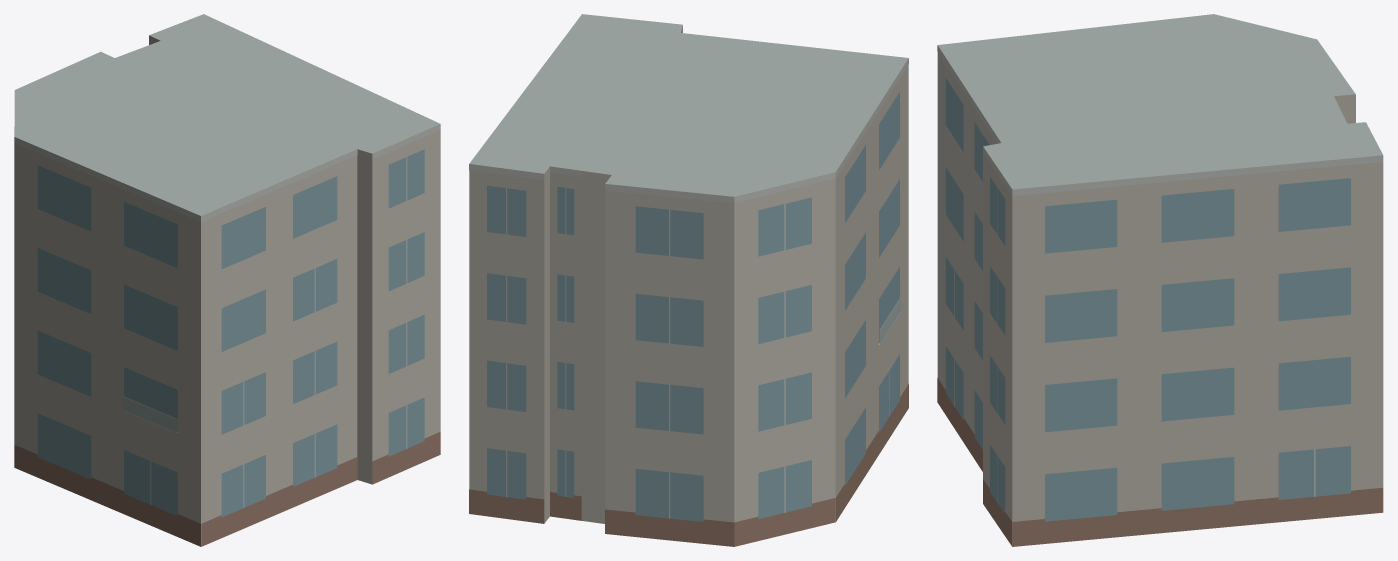
Rendered from survey-upis-33027584.glb.
3 views of the same model, side by side, from view 1: azimuth 30°, elevation 25°; view 2: azimuth 150°, elevation 25°; view 3: azimuth 270°, elevation 25° (orthographic). The views are drawn at different scales.
Visible parts, largest first — view 1: survey-upis-33027584.tmp; view 2: survey-upis-33027584.tmp; view 3: survey-upis-33027584.tmp.
Part boxes in pixels (x1,y1,x2,y2): survey-upis-33027584.tmp: (14,14,440,546); survey-upis-33027584.tmp: (469,14,908,546); survey-upis-33027584.tmp: (937,14,1383,546).
Bounding box in the file's own units: 13.91 × 13.2 × 14.93.
